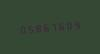eight: (33, 21, 40, 34)
five: (25, 22, 32, 35)
nine: (73, 17, 80, 31)
seven: (49, 20, 56, 33)
six: (41, 20, 48, 34), (57, 19, 64, 32)
zero: (17, 22, 24, 36), (65, 18, 72, 32)
